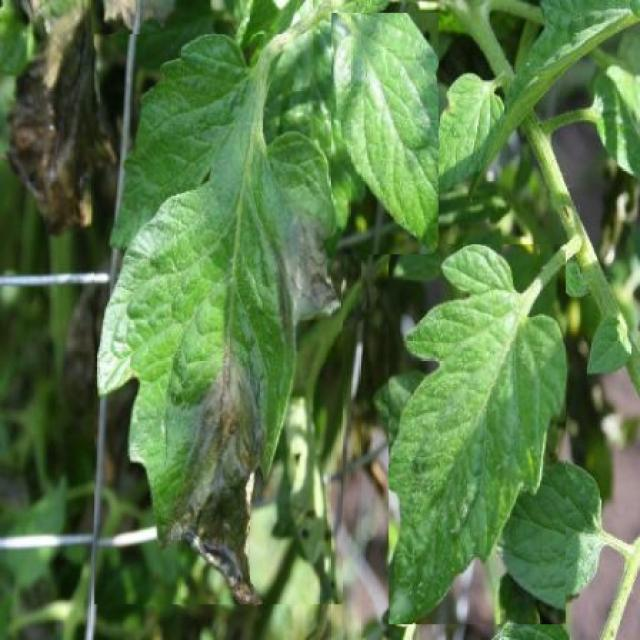Healthy: (388, 245, 566, 624), (332, 13, 438, 254)
Late Blight: (94, 34, 343, 604)
